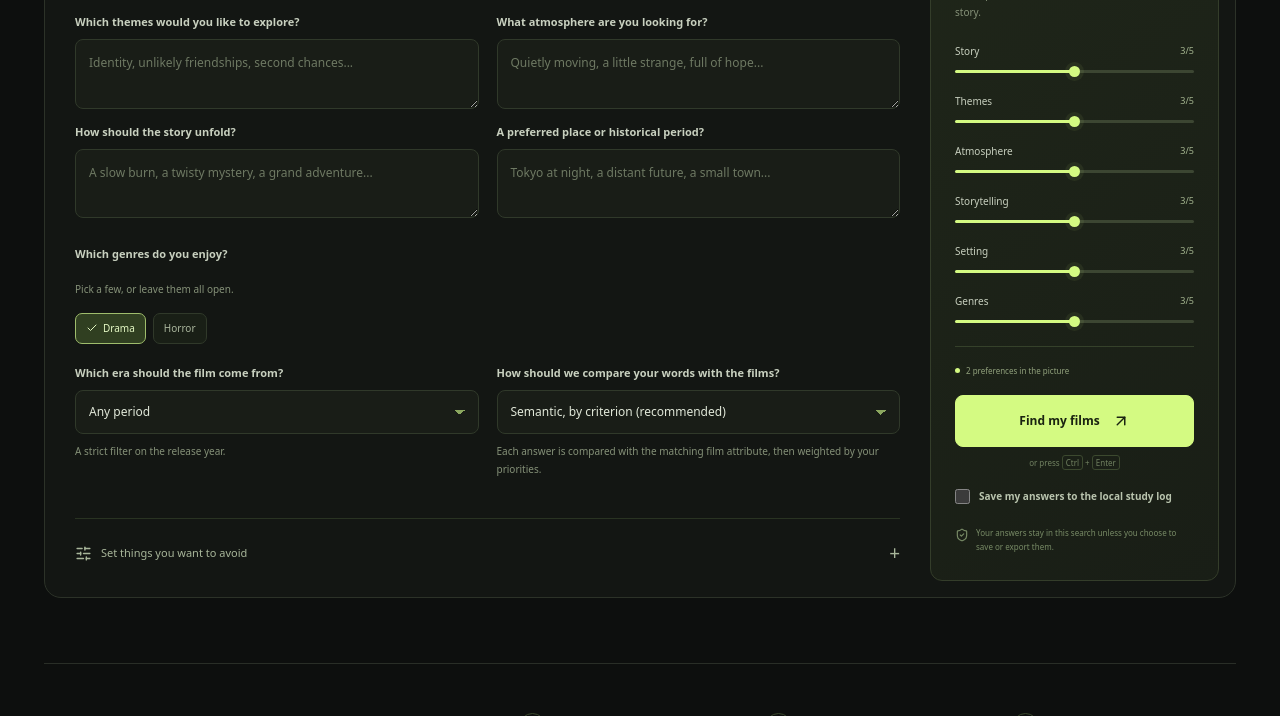
Test case: Questionnaire › asks for clarification when a genre is both preferred and excluded
Earlier steps of the test are not shown.
(page scrolled)
Click the button "Find my films": {"x": 1074, "y": 421} [955,395,1194,447]
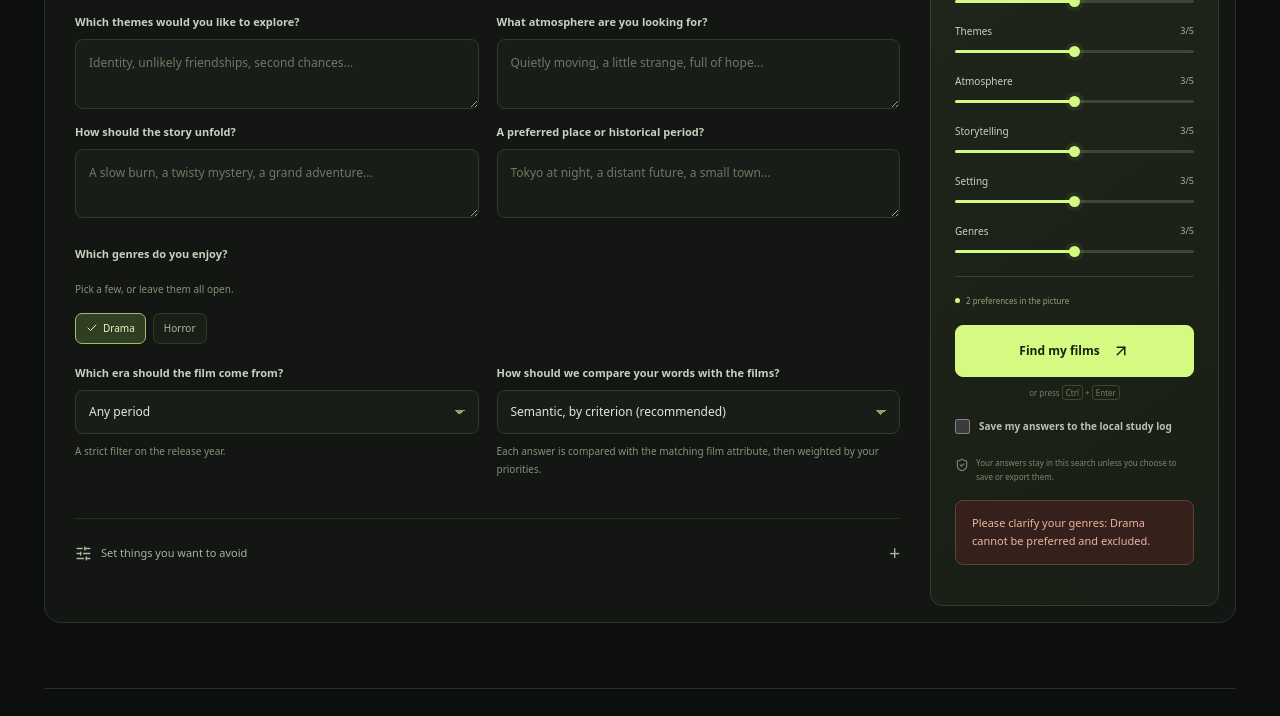
Expected: the message shows "cannot be preferred and excluded", [972,514,1150,548]
